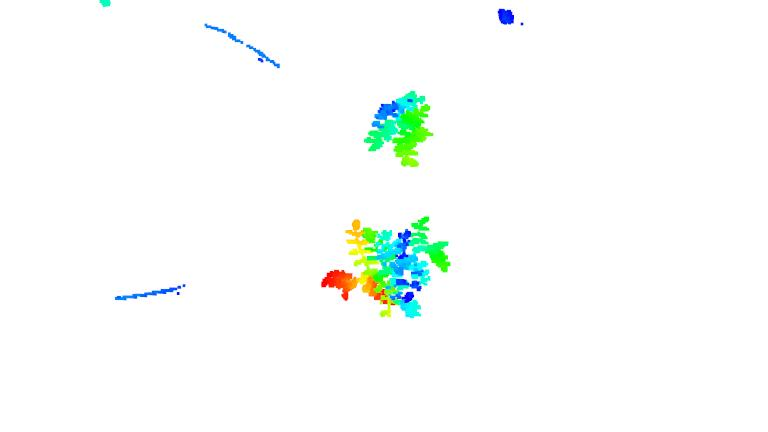chickpea: (318, 213, 449, 321), (361, 87, 434, 168)
